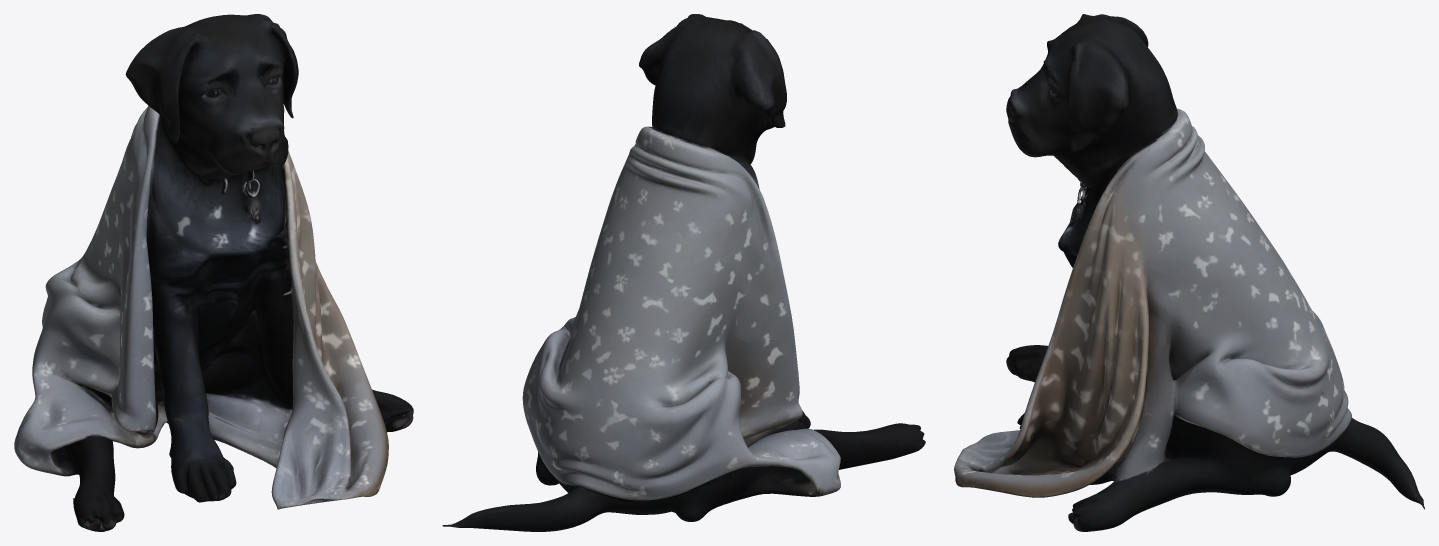
The model's file is spot-model-2.glb.
3 views of the same model, side by side, from view 1: azimuth 30°, elevation 25°; view 2: azimuth 150°, elevation 25°; view 3: azimuth 270°, elevation 25° (orthographic). The views are drawn at different scales.
Parts seen in each view (by area): view 1: material; view 2: material; view 3: material.
Boxes of the visible parts, x1,y1,x2,y2 form: material: (14,14,413,531); material: (442,14,925,531); material: (954,14,1424,531).
Bounding box in the file's own units: 0.6708 × 0.7827 × 0.7841.
1 material, 1 textured.
